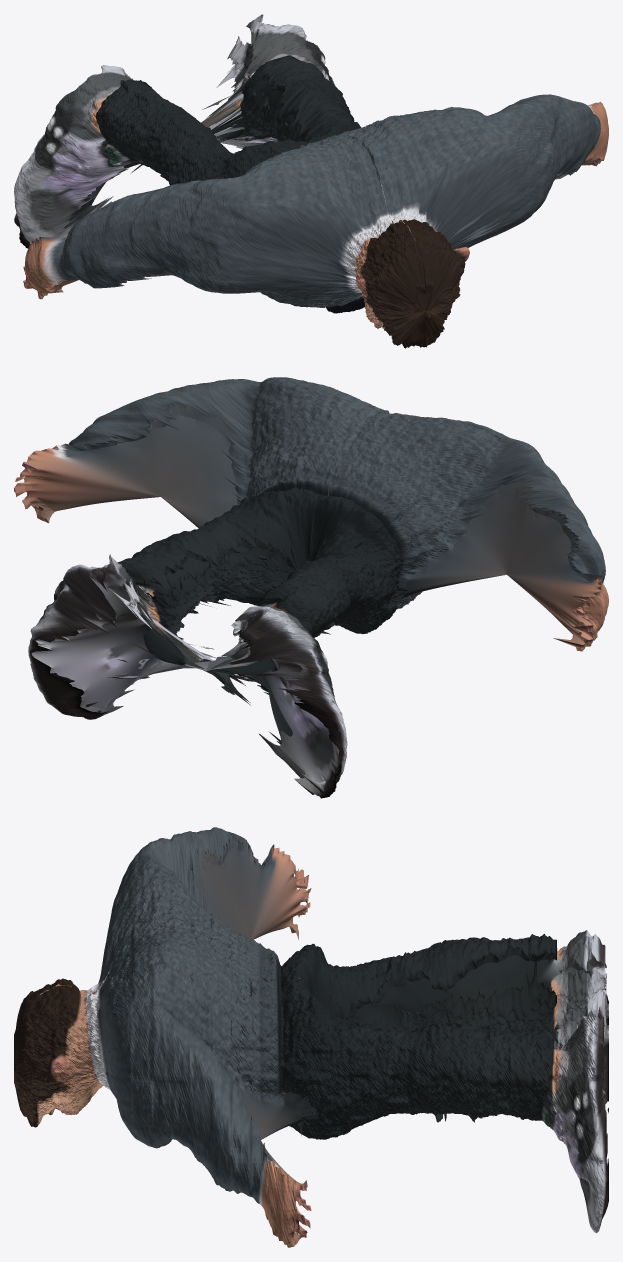
Rendered from mesh_inpaint.glb.
3 views of the same model, one above another, from view 1: azimuth 30°, elevation 25°; view 2: azimuth 150°, elevation 25°; view 3: azimuth 270°, elevation 25° (orthographic). The views are drawn at different scales.
Visible parts, largest first — view 1: ipn, fill; view 2: ipn, fill; view 3: ipn, fill.
Boxes of the visible parts, <box> form: ipn: <box>14,14,608,348</box>; fill: <box>14,15,603,320</box>; ipn: <box>14,377,608,798</box>; fill: <box>14,401,601,796</box>; ipn: <box>14,827,608,1247</box>; fill: <box>14,834,608,1242</box>.
Size of the model in its own units: 1.87 by 0.6986 by 1.41.
Materials: 2 (1 with a texture image).
